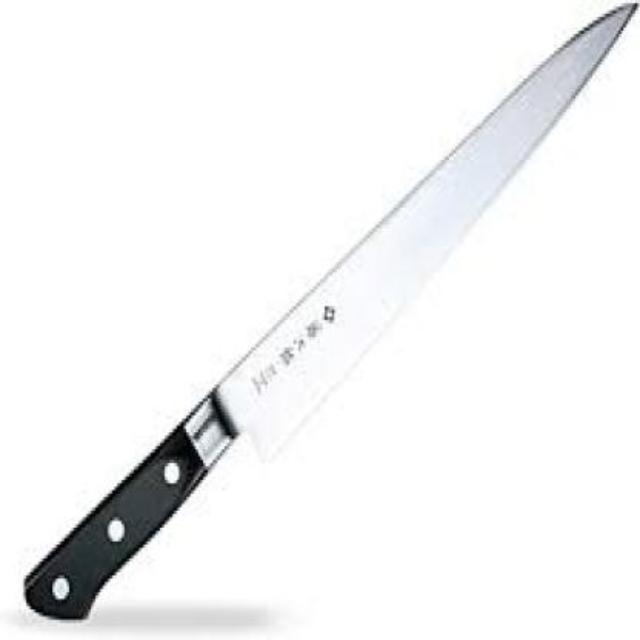Knife: (25, 1, 635, 625)
